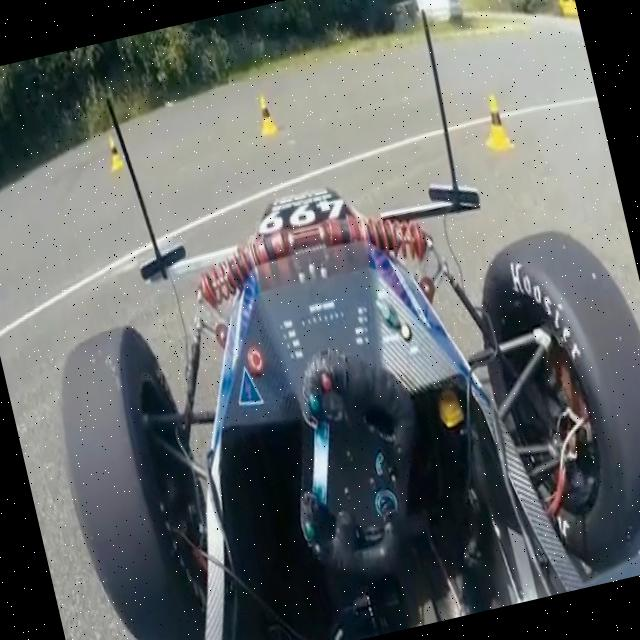yellow_cone: (474, 83, 514, 153), (244, 84, 285, 134), (98, 126, 129, 172)
